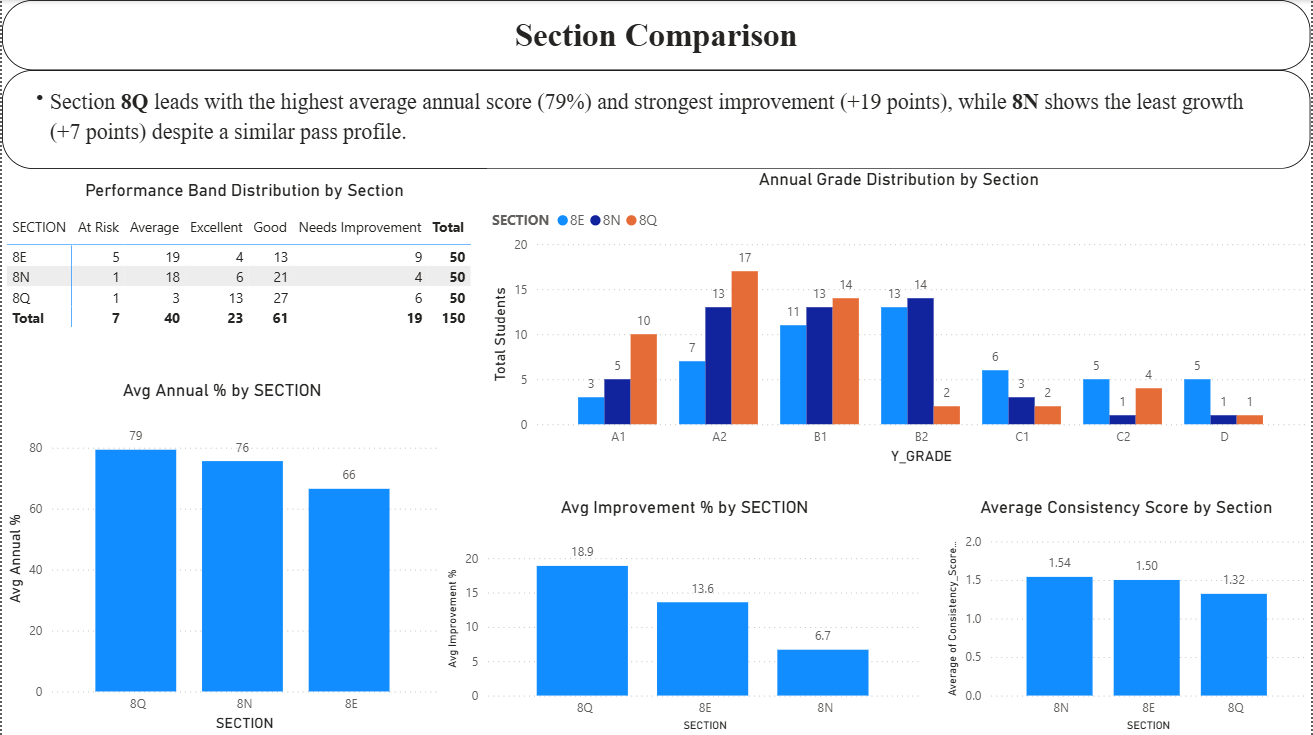

The dashboard page shown, as its layout file describes it:
{"tool":"powerbi","page":{"name":"Section Comparison","canvas":[1280,720],"ordinal":1},"visuals":[{"type":"clusteredColumnChart","fields":{"Category":["student_performance_feature_engineered.SECTION"],"Y":["student_performance_feature_engineered.Avg Annual %"]},"box":[0,371.7,430.4,348.5],"z":0},{"type":"pivotTable","title":"Performance Band Distribution by Section","fields":{"Rows":["student_performance_feature_engineered.SECTION"],"Columns":["student_performance_feature_engineered.Performance_Band"],"Values":["student_performance_feature_engineered.Total Students"]},"box":[0,176.1,474.5,166.3],"z":1000},{"type":"clusteredColumnChart","fields":{"Category":["student_performance_feature_engineered.SECTION"],"Y":["student_performance_feature_engineered.Avg Improvement %"]},"box":[430.4,485.5,474.5,234.8],"z":2000},{"type":"actionButton","box":[0,0,100,40],"z":3000},{"type":"clusteredColumnChart","title":"Average Consistency Score by Section","fields":{"Category":["student_performance_feature_engineered.SECTION"],"Y":["Avg(student_performance_feature_engineered.Consistency_Score_Numeric)"]},"box":[919.6,485.5,360.7,234.8],"z":4000},{"type":"textbox","box":[0,68.5,1280.3,96.6],"z":5000},{"type":"textbox","box":[0,0,1280.3,68.5],"z":6000},{"type":"clusteredColumnChart","title":"Annual Grade Distribution by Section","fields":{"Category":["student_performance_feature_engineered.SECTION","student_performance_feature_engineered.Y_GRADE"],"Y":["student_performance_feature_engineered.Total Students"],"Series":["student_performance_feature_engineered.SECTION"]},"box":[474.5,165.1,805.8,293.5],"z":7000}]}

Visuals, with their boxes in screenshot pixels (x1, y1, x2, y2), scaled from the page's 1280x720 canvas onto the 1313x735 screenshot:
clusteredColumnChart - student_performance_feature_engineered.SECTION x student_performance_feature_engineered.Avg Annual %: region(0, 379, 441, 734)
"Performance Band Distribution by Section" pivotTable: region(0, 180, 487, 350)
clusteredColumnChart - student_performance_feature_engineered.SECTION x student_performance_feature_engineered.Avg Improvement %: region(441, 496, 928, 734)
actionButton: region(0, 0, 103, 41)
"Average Consistency Score by Section" clusteredColumnChart: region(943, 496, 1312, 734)
textbox: region(0, 70, 1312, 169)
textbox: region(0, 0, 1312, 70)
"Annual Grade Distribution by Section" clusteredColumnChart: region(487, 169, 1312, 468)
